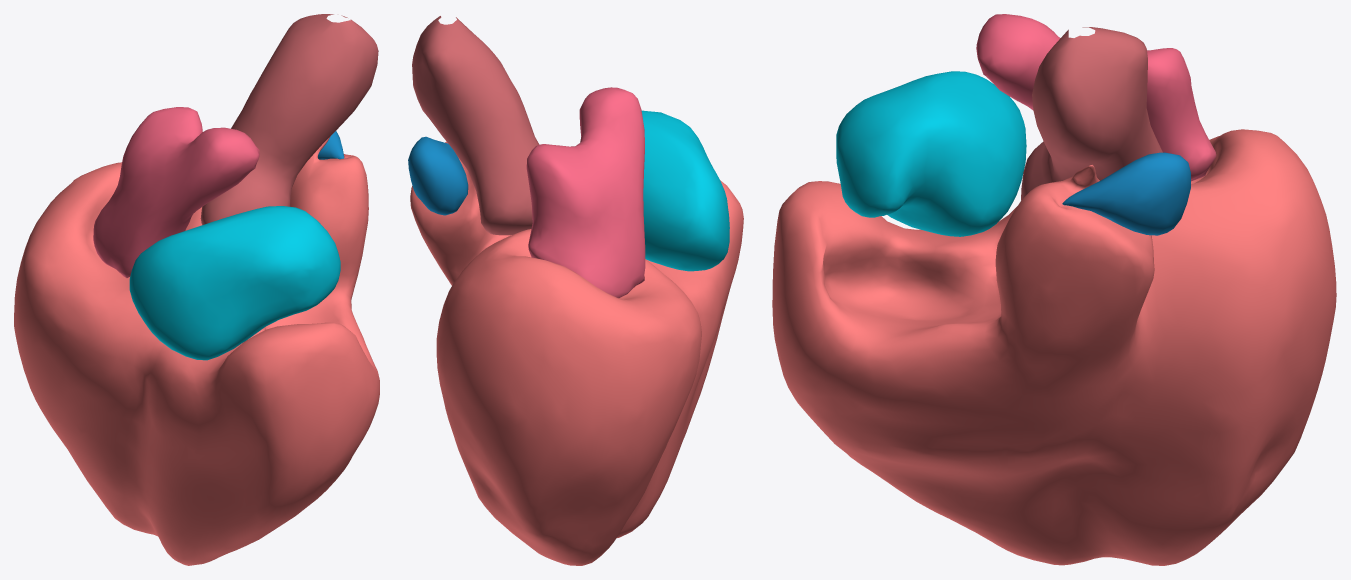
Rendered from frame_73.glb.
3 views of the same model, side by side, from view 1: azimuth 30°, elevation 25°; view 2: azimuth 150°, elevation 25°; view 3: azimuth 270°, elevation 25° (orthographic). The views are drawn at different scales.
Visible parts, largest first — view 1: Renderer Node; view 2: Renderer Node; view 3: Renderer Node.
Part boxes in pixels (x1,y1,x2,y2): Renderer Node: (14,14,379,565); Renderer Node: (408,16,743,565); Renderer Node: (772,14,1336,565).
Size of the model in its own units: 102 by 158 by 128.
